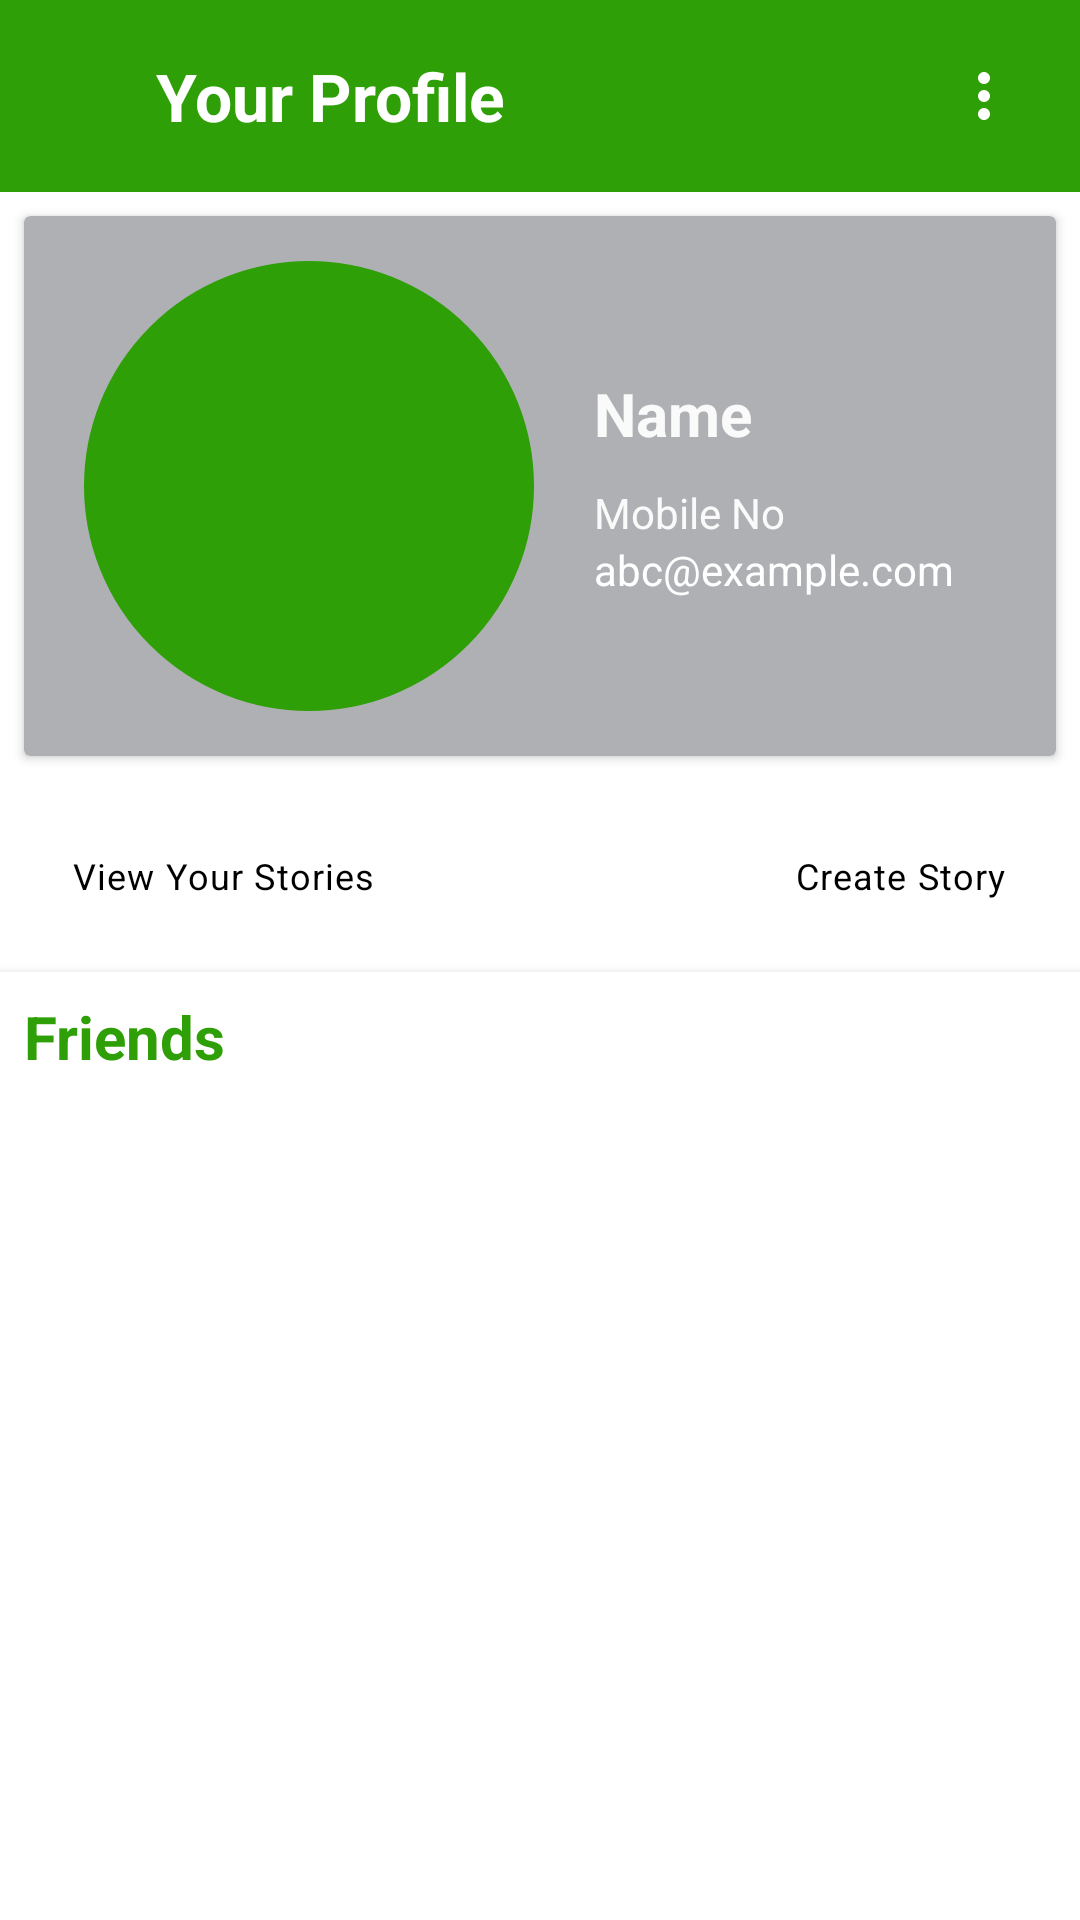

Screen size 1080*1920. Icon name, then its center in pixels as (x=x, y=y):
vertical dots: (x=984, y=96)
